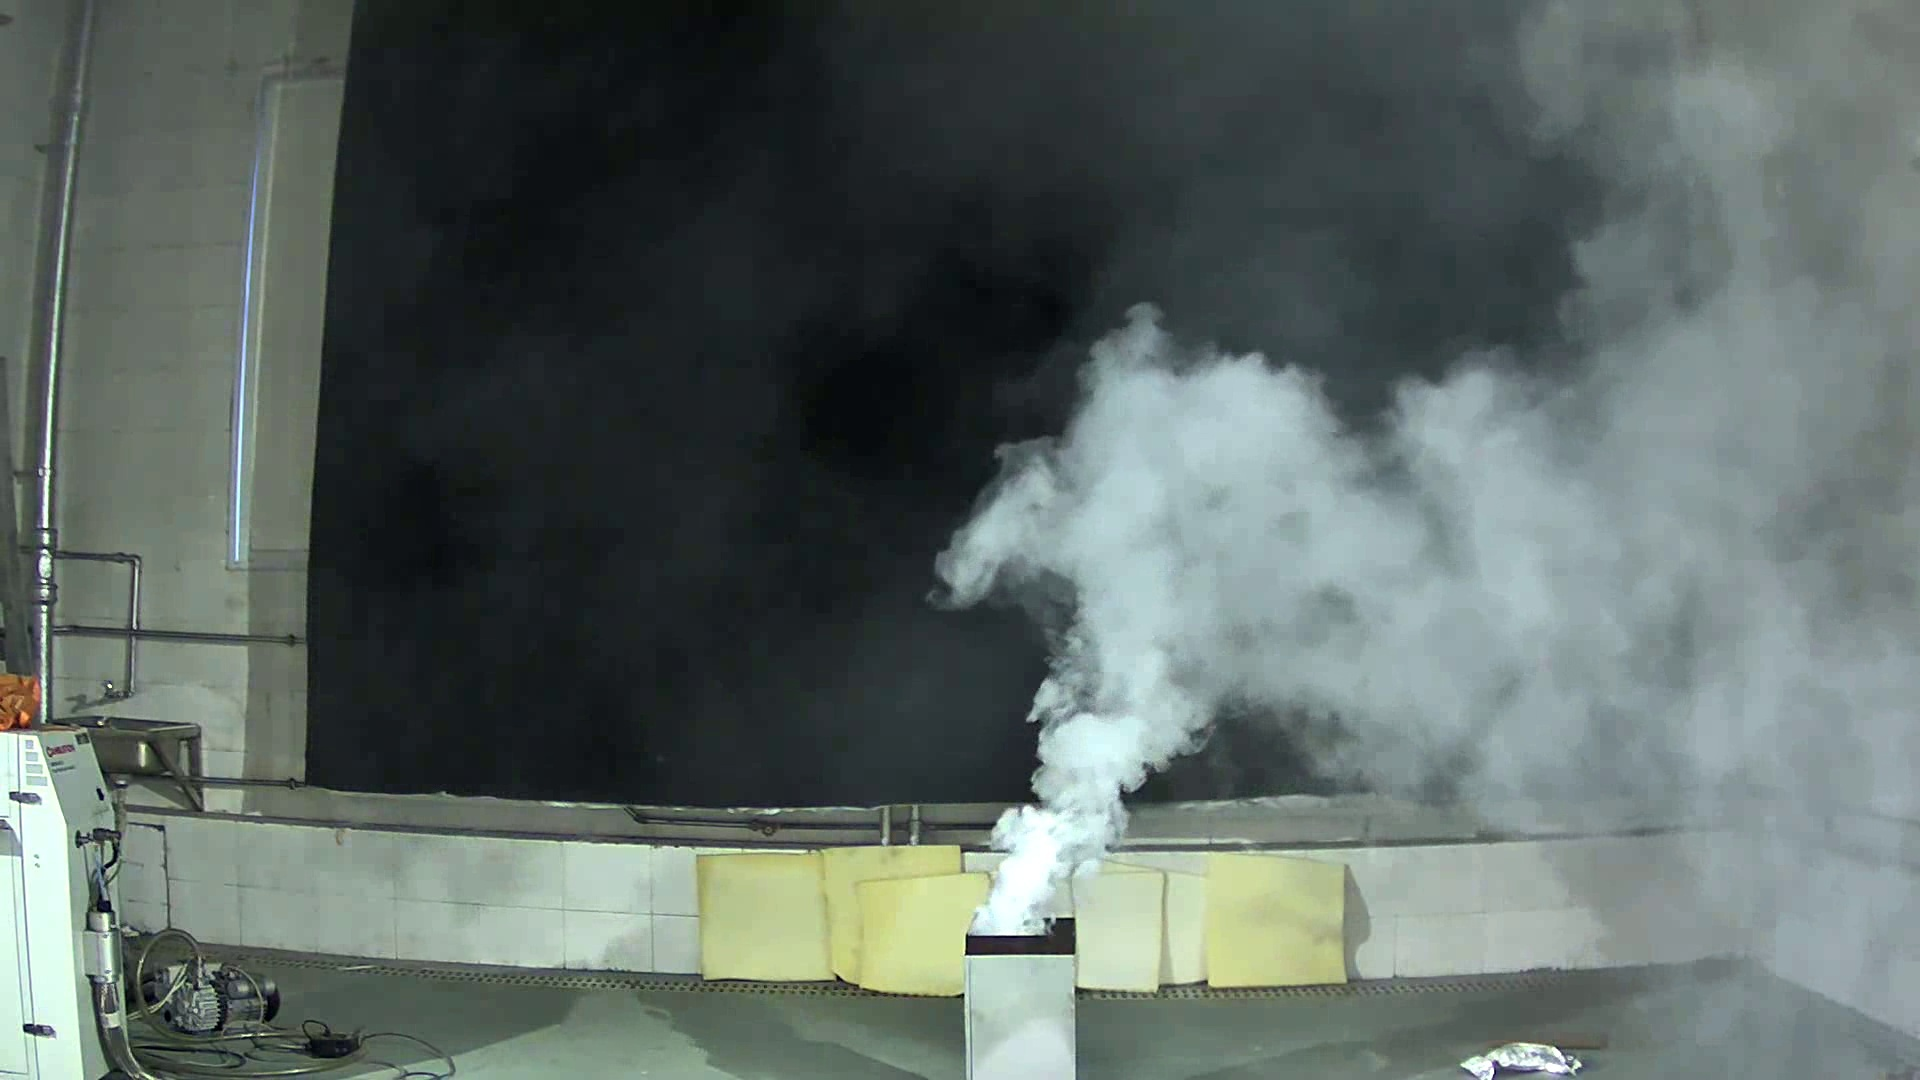smoke: (913, 193, 1782, 943)
